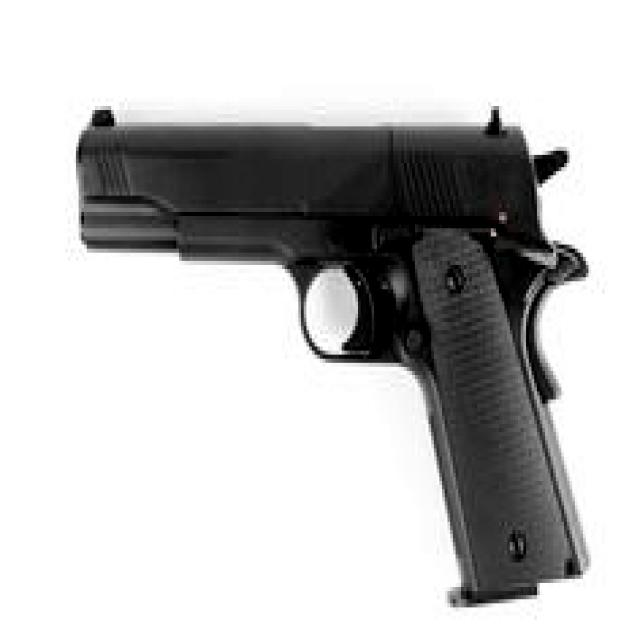semi automatic: (66, 84, 594, 615)
